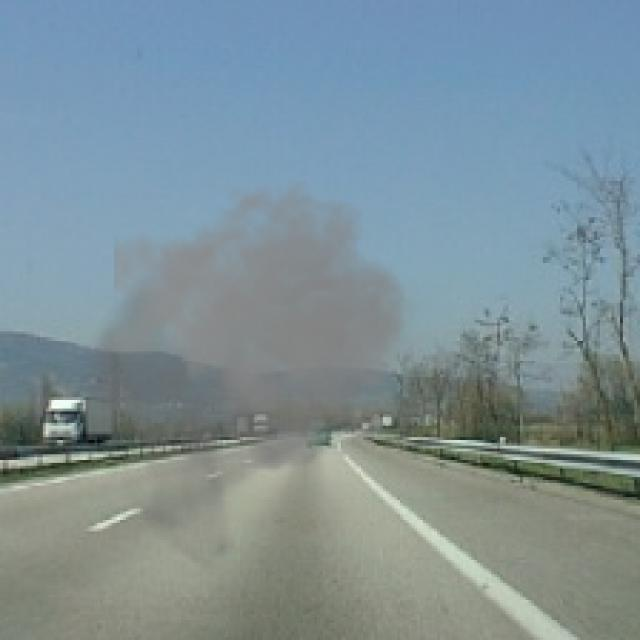smoke: (71, 177, 432, 574)
